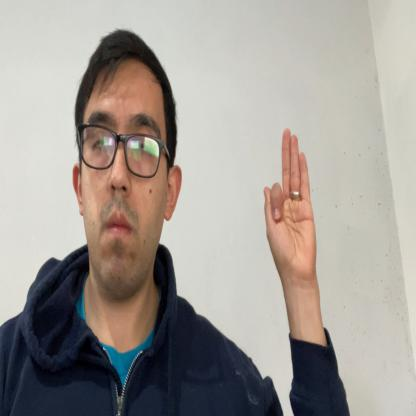F: (264, 127, 317, 280)
